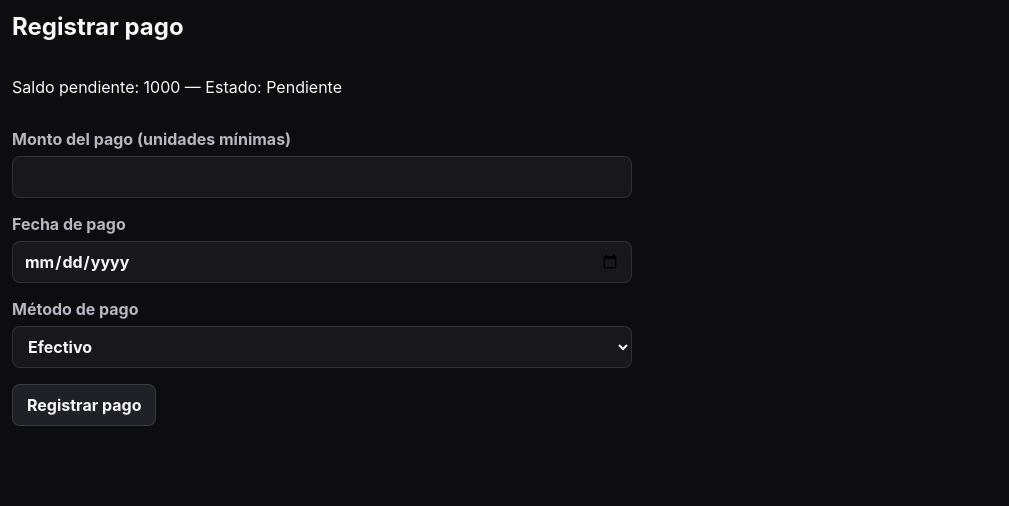
PaymentForm › uses the default clock deterministically for payment dates
Expected: the text "Saldo pendiente: 1000 — Estado: Pendiente" is shown, [12, 77, 342, 97]
In the field labelled "Monto del pago (unidades mínimas)": (322, 177) [12, 156, 632, 198], type "100"
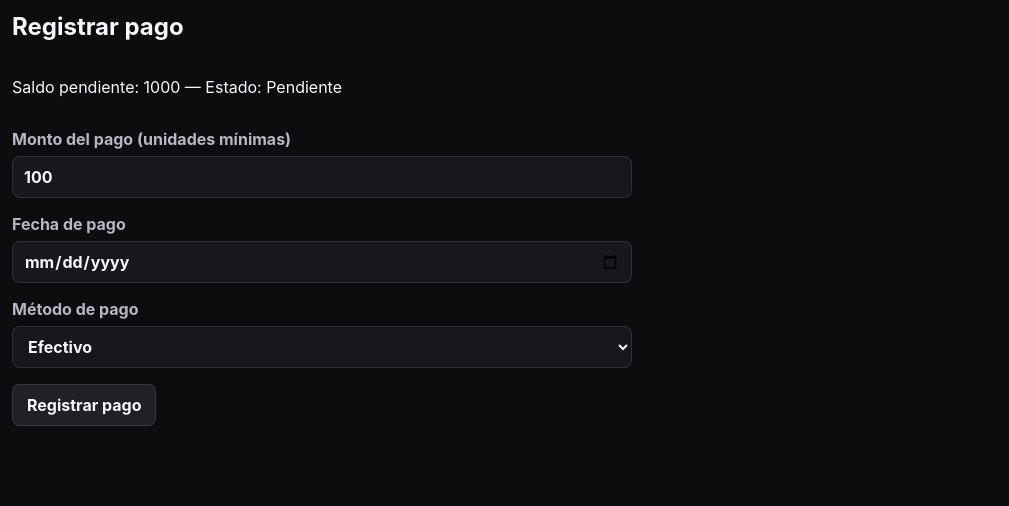
In the date field labelled "Fecha de pago": (322, 262) [12, 241, 632, 283], type "2026-08-11"
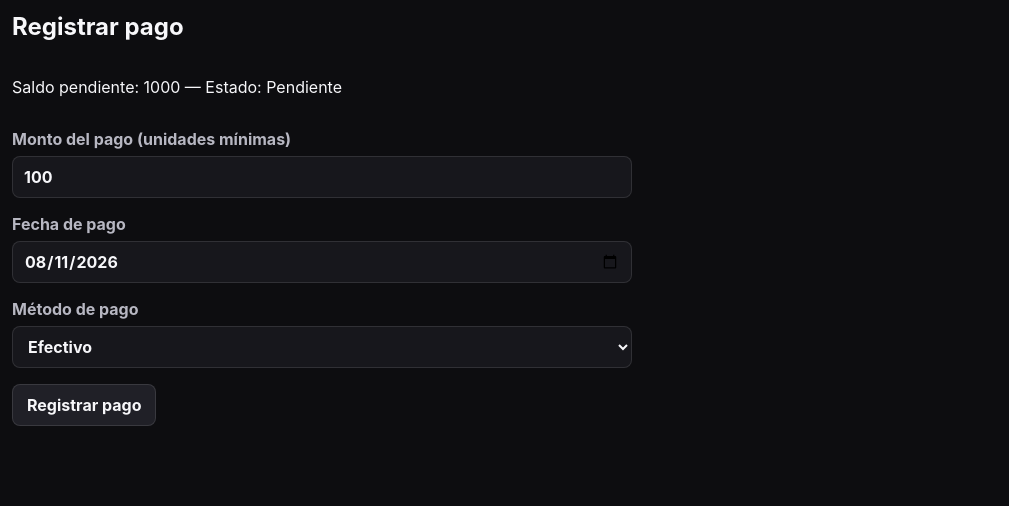
Click the button "Registrar pago": (84, 405) [12, 384, 156, 426]
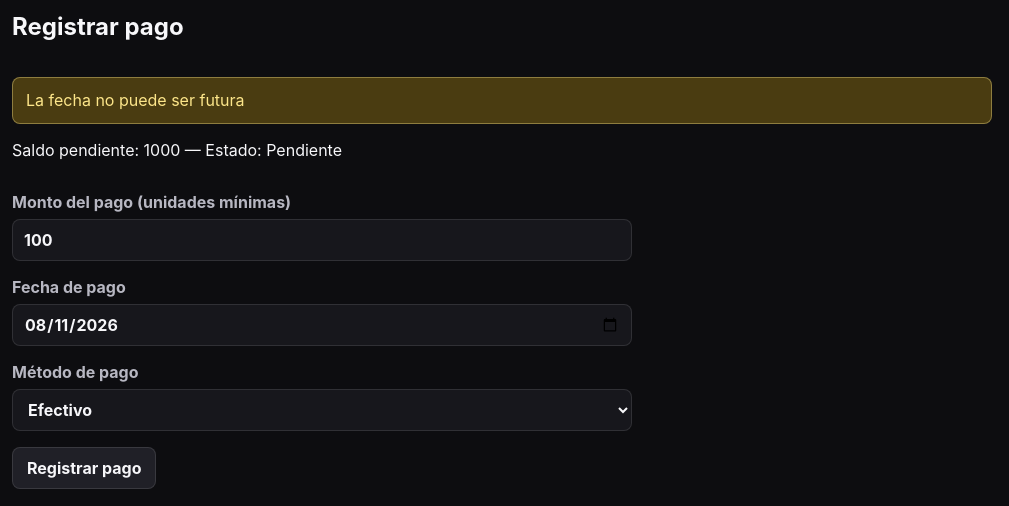
Now the message reads "La fecha no puede ser futura", box [26, 90, 244, 110]
